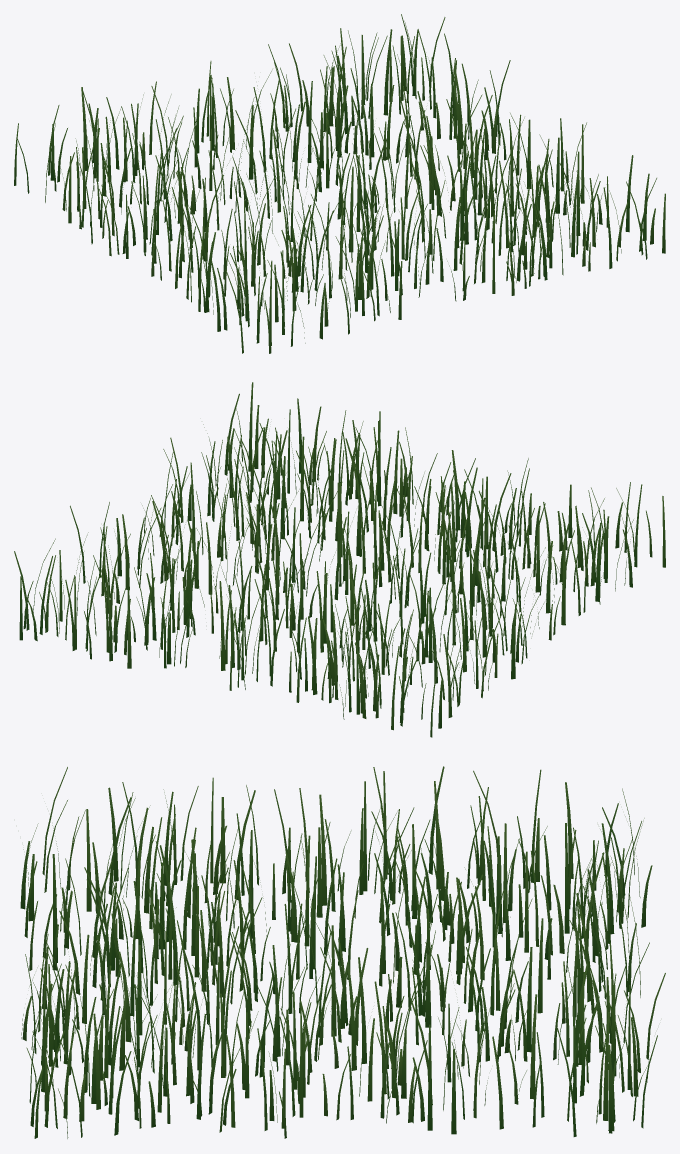
Rendered from Turf_Sedge_v3.glb.
3 renders of one model, top to bottom at view 1: azimuth 30°, elevation 25°; view 2: azimuth 150°, elevation 25°; view 3: azimuth 270°, elevation 25°, orthographic. The views are drawn at different scales.
Visible parts, largest first — view 1: Turf_Sedge_v3; view 2: Turf_Sedge_v3; view 3: Turf_Sedge_v3.
Boxes of the visible parts, <box> form: Turf_Sedge_v3: <box>14,14,665,353</box>; Turf_Sedge_v3: <box>14,382,665,737</box>; Turf_Sedge_v3: <box>20,766,665,1138</box>.
Bounding box in the file's own units: 1.28 × 0.22 × 1.27.
